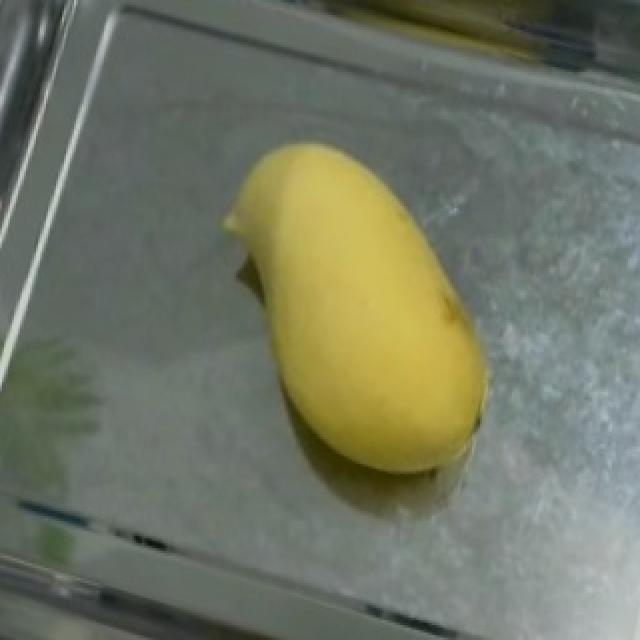fruit: (188, 109, 538, 496), (308, 0, 600, 74)
